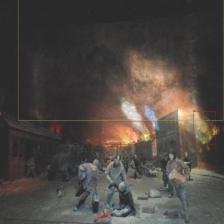fire: (105, 121, 155, 145), (193, 111, 215, 144)
smoke: (18, 0, 223, 121)
